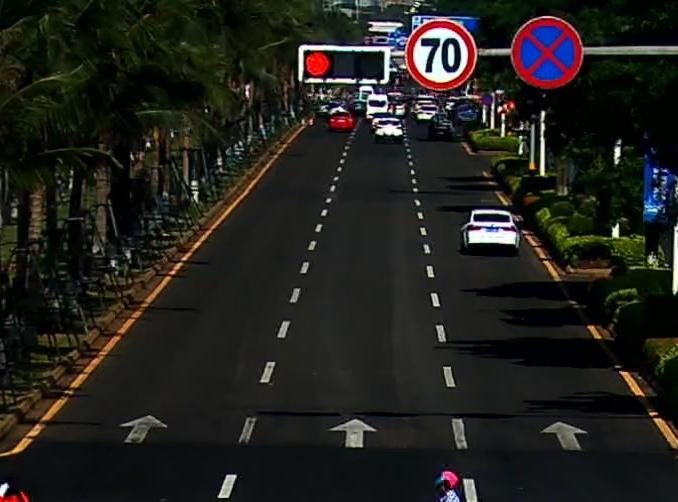red: (306, 52, 328, 75)
